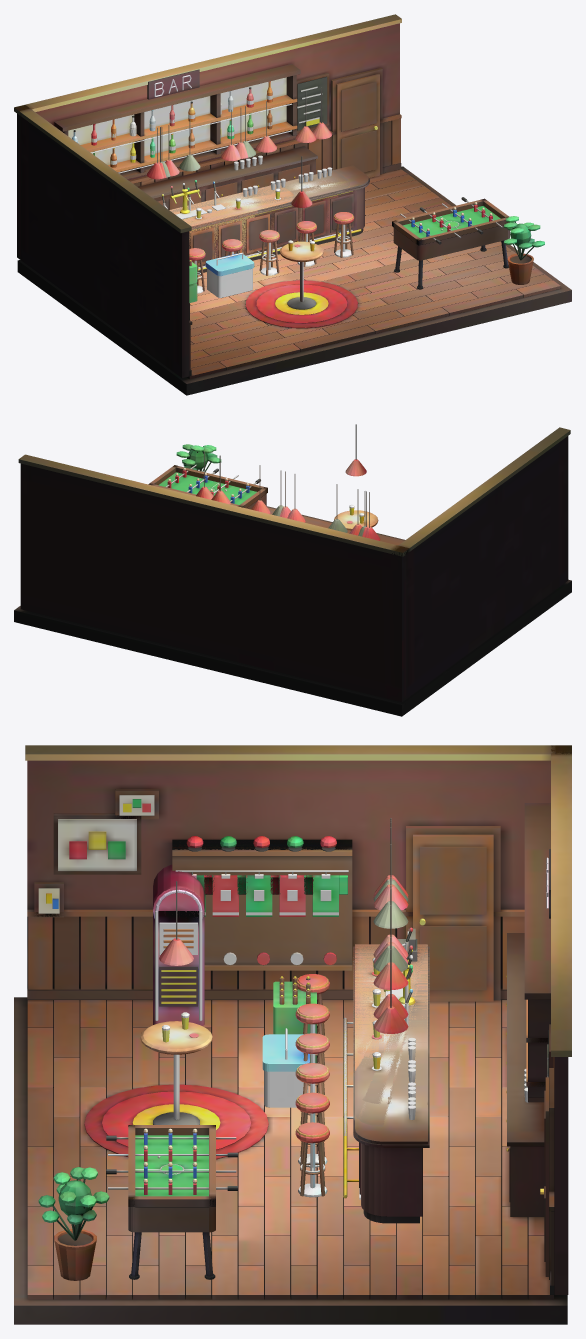
Rendered from raum_theke.glb.
The picture shows the model from 3 angles, top to bottom: view 1: azimuth 30°, elevation 25°; view 2: azimuth 150°, elevation 25°; view 3: azimuth 270°, elevation 25°; orthographic projection. The views are drawn at different scales.
Parts seen in each view (by area): view 1: huelle, regalwand, kicker, bar4, bar2, bar5, bar3, bar0, pflanze, bar1, neon; view 2: huelle, kicker, pflanze, bar4, bar3, bar5; view 3: huelle, bar5, kicker, jukebox, foto, bar0, bar1, pflanze, bar4, bar3, bar2, fsschals (+5 smaller).
Part boxes in pixels (x1=…): huelle: x1=14, y1=14, x2=571, y2=395; regalwand: x1=68, y1=77, x2=292, y2=173; kicker: x1=392, y1=197, x2=509, y2=289; bar4: x1=147, y1=91, x2=349, y2=267; bar2: x1=161, y1=106, x2=293, y2=270; bar5: x1=158, y1=87, x2=369, y2=272; bar3: x1=165, y1=101, x2=321, y2=269; bar0: x1=177, y1=209, x2=254, y2=302; pflanze: x1=504, y1=216, x2=544, y2=284; bar1: x1=169, y1=120, x2=258, y2=272; neon: x1=147, y1=69, x2=199, y2=99; huelle: x1=14, y1=424, x2=571, y2=716; kicker: x1=148, y1=464, x2=267, y2=509; pflanze: x1=176, y1=444, x2=221, y2=472; bar4: x1=211, y1=455, x2=380, y2=540; bar3: x1=251, y1=465, x2=361, y2=535; bar5: x1=196, y1=451, x2=368, y2=537; huelle: x1=14, y1=745, x2=571, y2=1324; bar5: x1=343, y1=820, x2=429, y2=1223; kicker: x1=106, y1=1125, x2=237, y2=1279; jukebox: x1=153, y1=864, x2=204, y2=1025; foto: x1=53, y1=813, x2=141, y2=874; bar0: x1=262, y1=976, x2=390, y2=1107; bar1: x1=343, y1=844, x2=429, y2=1113; pflanze: x1=38, y1=1167, x2=109, y2=1280; bar4: x1=343, y1=818, x2=429, y2=1181; bar3: x1=343, y1=827, x2=429, y2=1158; bar2: x1=343, y1=822, x2=429, y2=1135; fsschals: x1=186, y1=836, x2=336, y2=965.
Bounding box in the file's own units: 8.35 × 3.38 × 6.35.
Materials: 1 (1 with a texture image).
